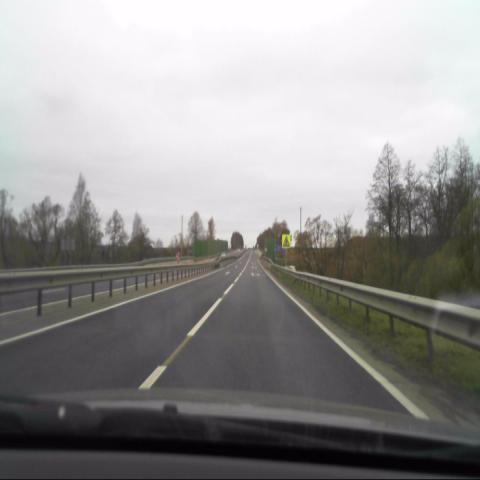1_22: (282, 234, 290, 248)
